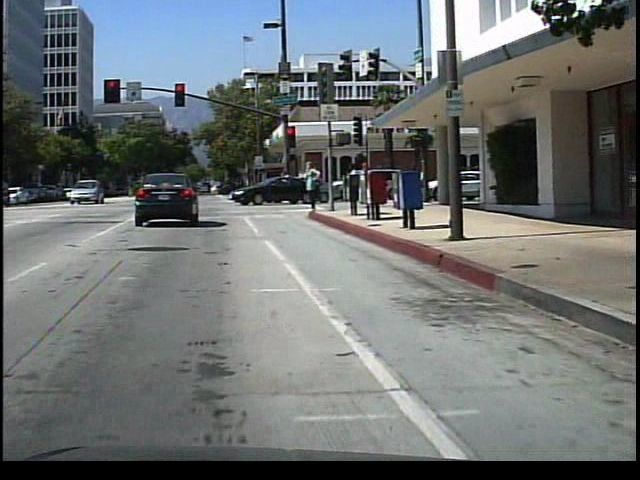person: (302, 153, 328, 215), (361, 155, 380, 207), (348, 156, 367, 206)
